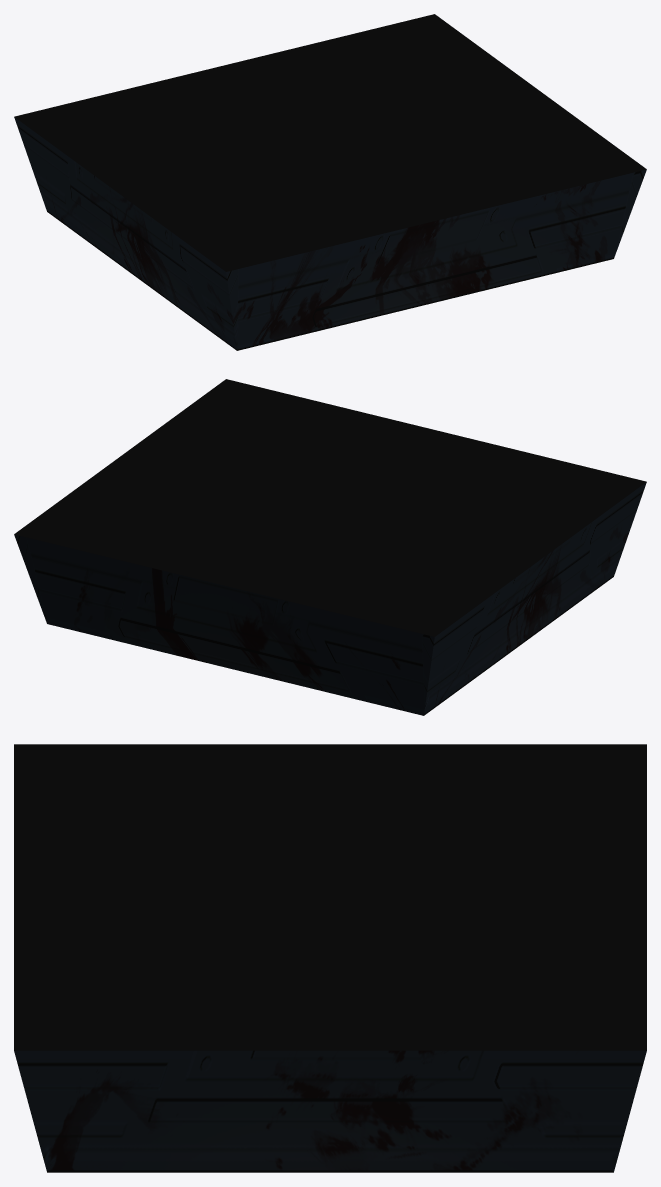
The model's file is sci-fi-cover.glb.
The picture shows the model from 3 angles, top to bottom: view 1: azimuth 30°, elevation 25°; view 2: azimuth 150°, elevation 25°; view 3: azimuth 270°, elevation 25°; orthographic projection. The views are drawn at different scales.
Parts seen in each view (by area): view 1: Mesh_cube1_default; view 2: Mesh_cube1_default; view 3: Mesh_cube1_default.
Boxes of the visible parts, box(x1,y1,x2,y2) form: Mesh_cube1_default: box(14, 14, 646, 350); Mesh_cube1_default: box(14, 379, 646, 715); Mesh_cube1_default: box(14, 744, 646, 1172).
Size of the model in its own units: 0.6177 by 0.1296 by 0.5395.
Materials: 1 (1 with a texture image).
